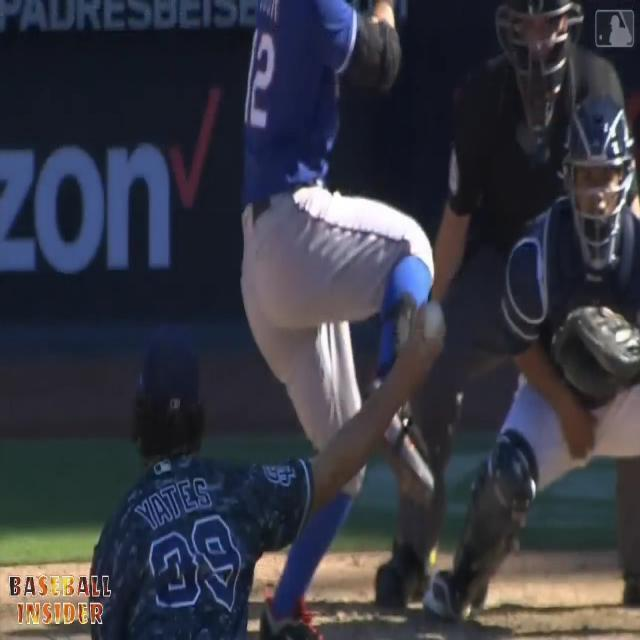ball: (412, 300, 450, 348)
